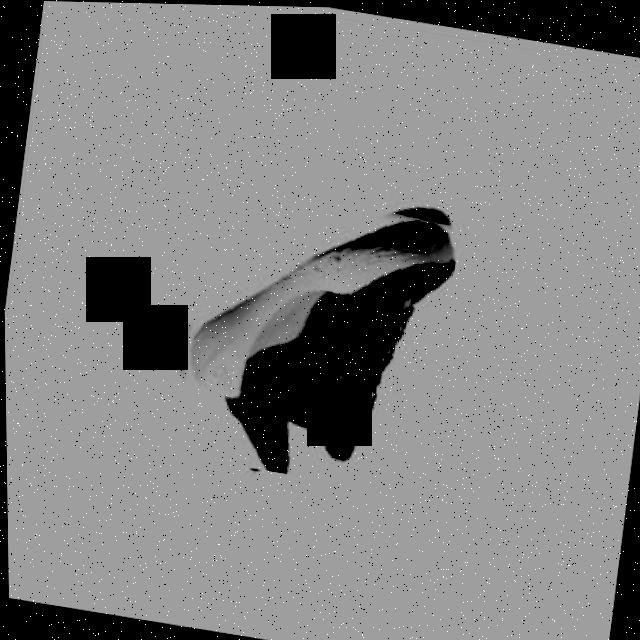shoe: (155, 168, 464, 495)
